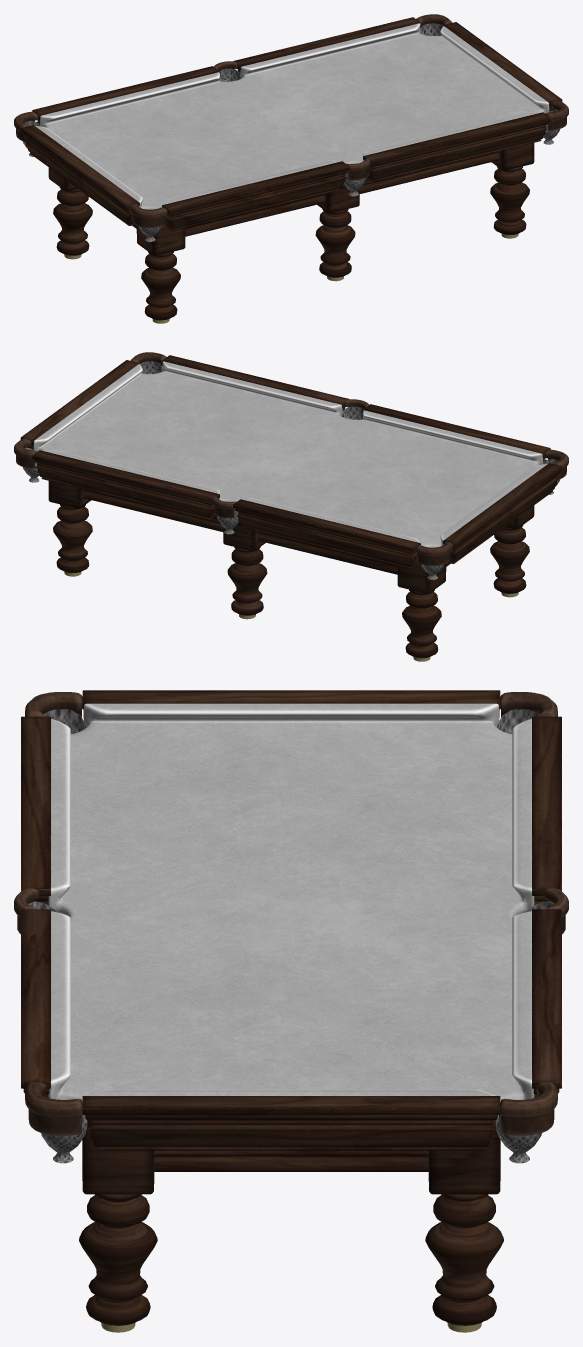
File: table2.glb
The picture shows the model from 3 angles, top to bottom: view 1: azimuth 30°, elevation 25°; view 2: azimuth 150°, elevation 25°; view 3: azimuth 270°, elevation 25°; orthographic projection. The views are drawn at different scales.
Parts seen in each view (by area): view 1: cloth, wood; view 2: cloth, wood; view 3: cloth, wood.
Part boxes in pixels (x1=…): cloth: x1=35, y1=23, x2=549, y2=209; wood: x1=14, y1=14, x2=568, y2=323; cloth: x1=33, y1=361, x2=547, y2=547; wood: x1=14, y1=352, x2=568, y2=661; cloth: x1=48, y1=703, x2=534, y2=1122; wood: x1=14, y1=690, x2=568, y2=1332.
Size of the model in its own units: 2.8 by 0.8153 by 1.57.
Materials: 2 (2 with a texture image).
